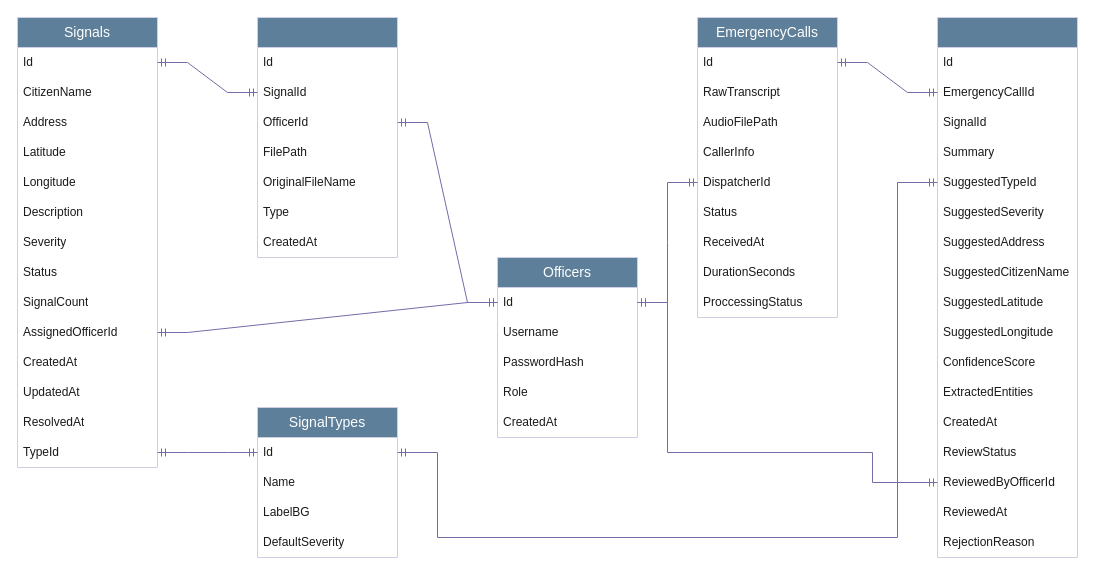
The diagram is 1095 pixels wide and 575 high, and some of its shapes have lost their labels. Each missing label, with the box of its shape:
Documents: (256, 16, 398, 258)
SignalDrafts: (936, 16, 1078, 558)
